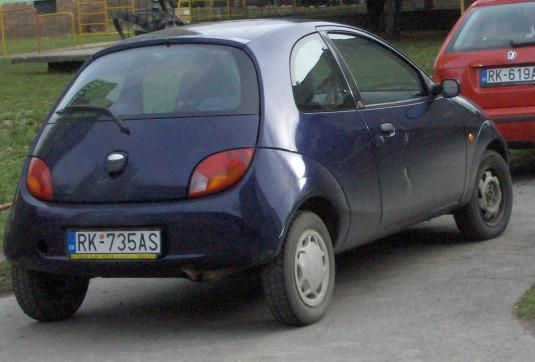placa de veiculo: (56, 222, 168, 266), (471, 63, 535, 90)
